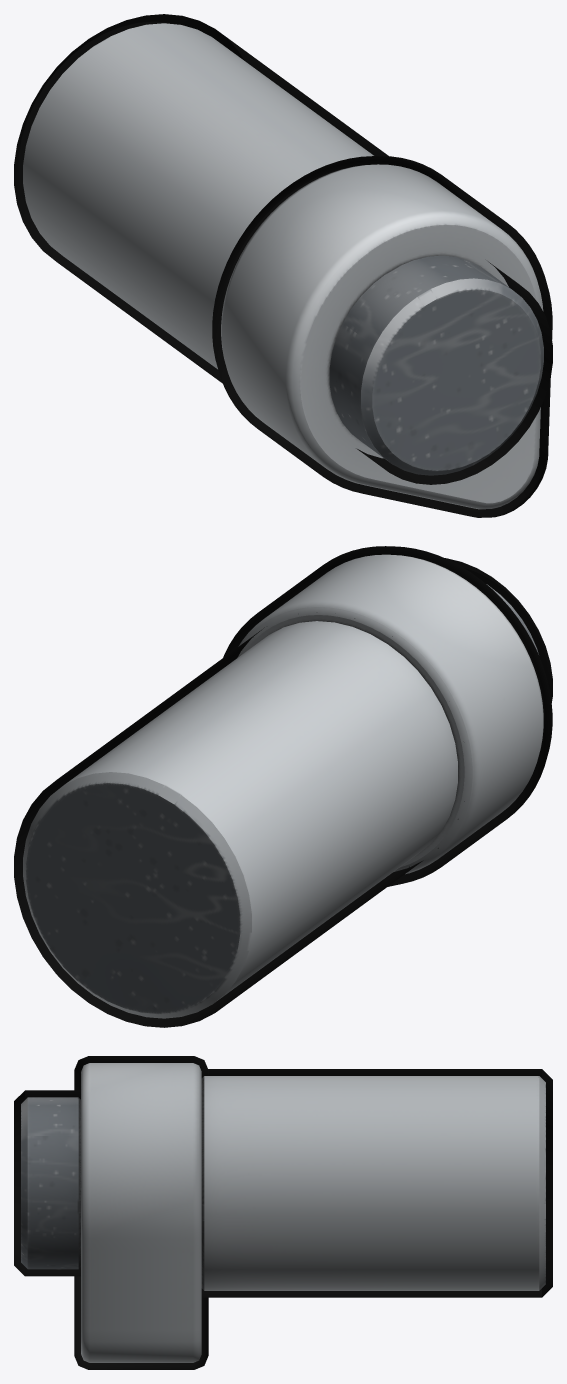
The model's file is IntakeCamshaft.fbx.
3 views of the same model, one above another, from view 1: azimuth 30°, elevation 25°; view 2: azimuth 150°, elevation 25°; view 3: azimuth 270°, elevation 25° (orthographic). The views are drawn at different scales.
Parts seen in each view (by area): view 1: IntakeCamshaft; view 2: IntakeCamshaft; view 3: IntakeCamshaft.
Boxes of the visible parts, x1=… form: IntakeCamshaft: x1=14, y1=14, x2=552, y2=517; IntakeCamshaft: x1=14, y1=546, x2=552, y2=1027; IntakeCamshaft: x1=14, y1=1056, x2=552, y2=1369.
Size of the model in its own units: 0.0296 by 0.0341 by 0.0626.
1 material, 1 textured.
